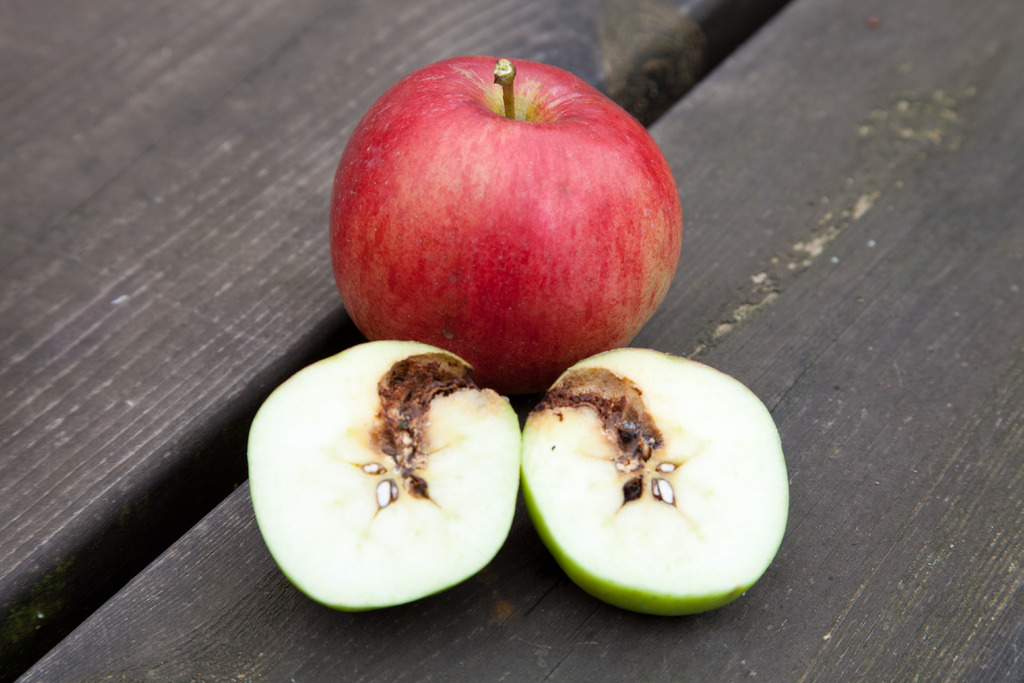Apple: (331, 48, 682, 404), (248, 336, 521, 615), (516, 344, 793, 613)
